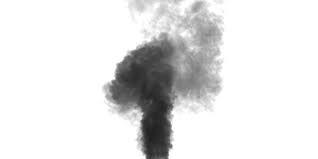smoke: (96, 1, 225, 159)
